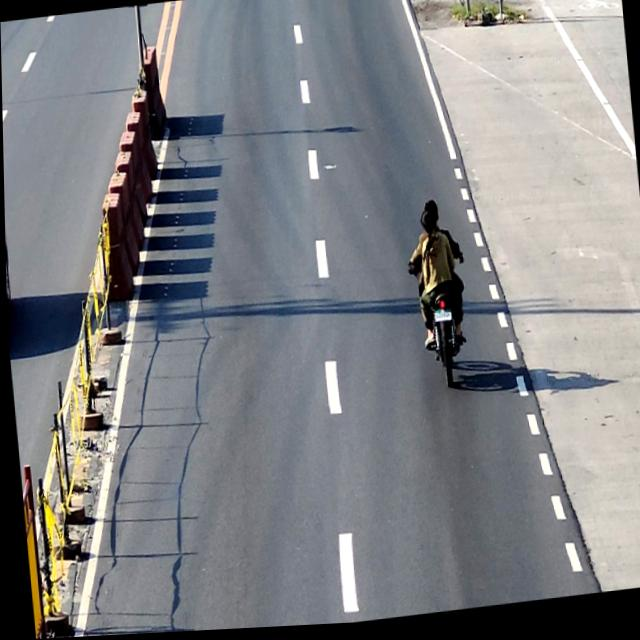License-Plate: (432, 311, 450, 326)
Motorcycle: (406, 243, 473, 396)
